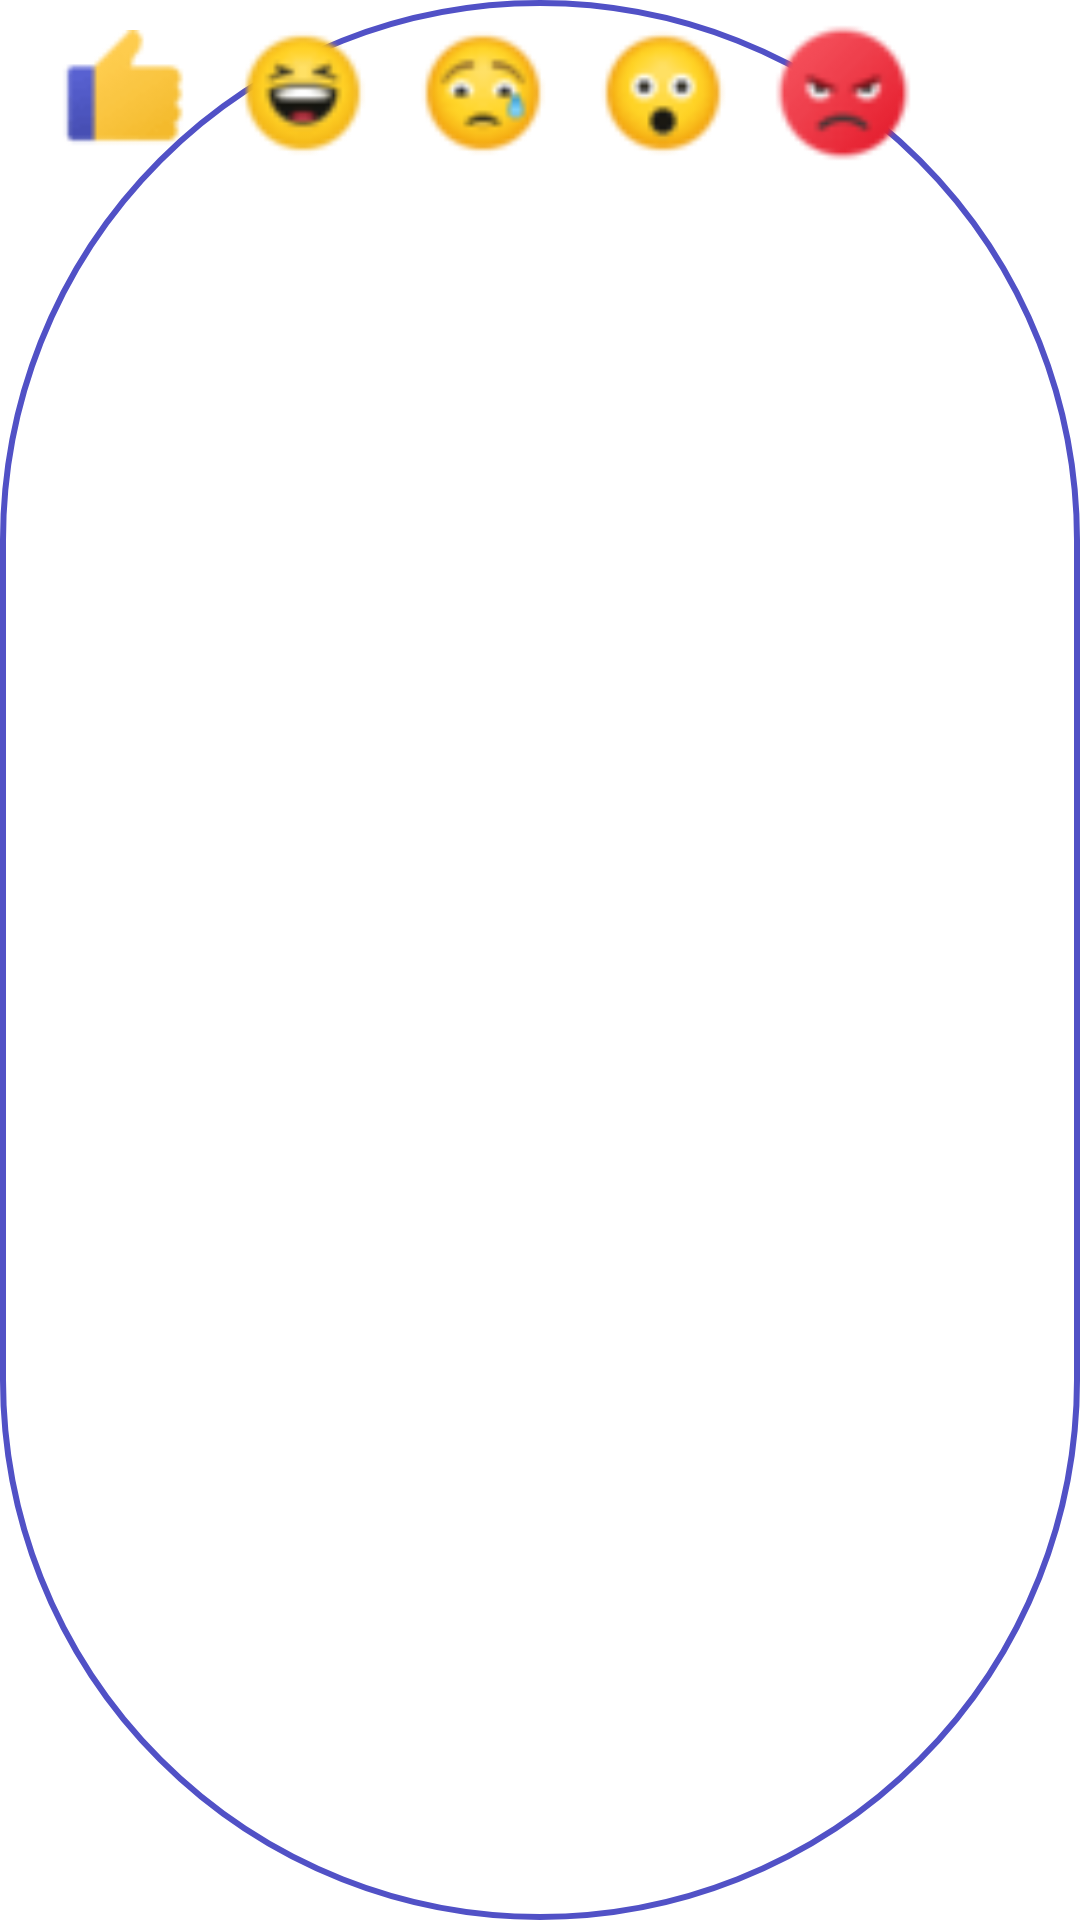

Point at icon controls on the screen. Image size 1080px×1920px, points as point (x, y).
react angry: point (843, 95)
react haha: point (303, 88)
react like: point (132, 99)
react sad: point (483, 93)
react wow: point (663, 93)
